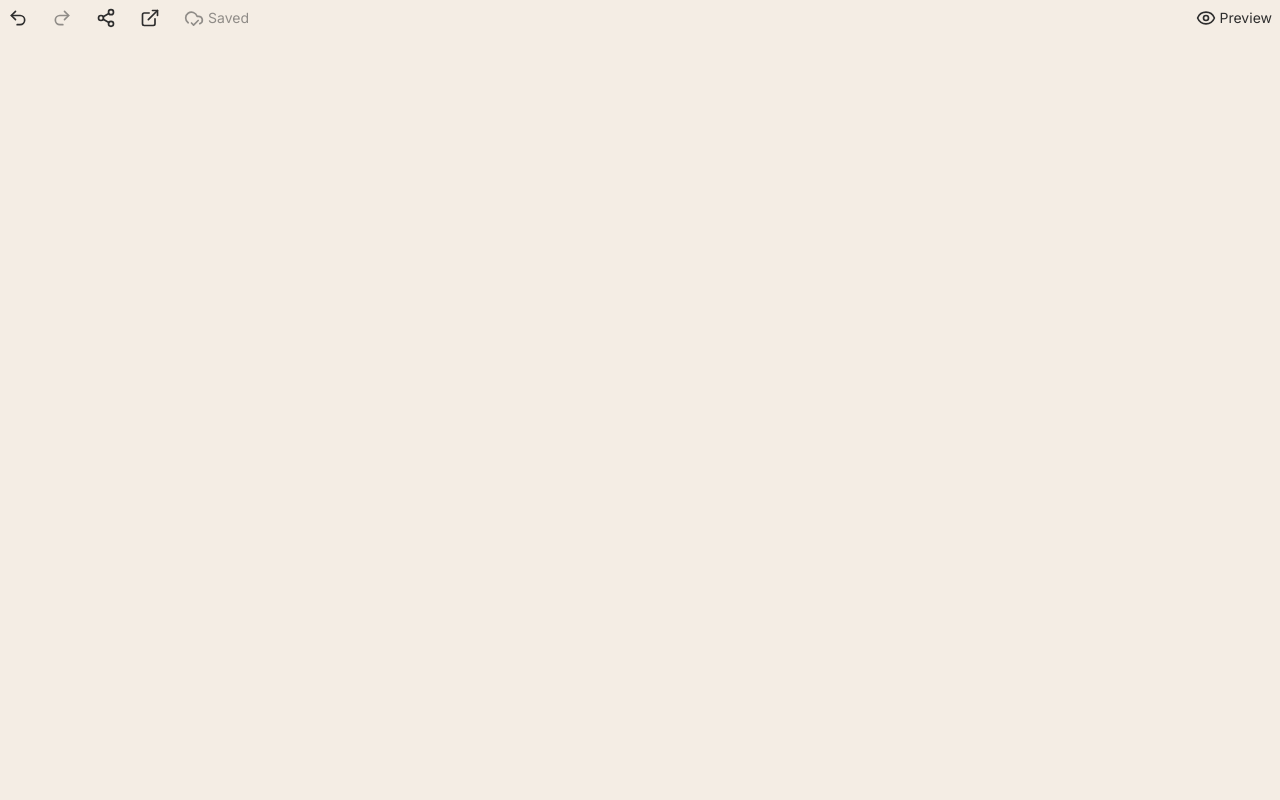
Test: MixtapeEditorToolbar › opens share modal when share button is clicked
Click the button with test id "share-button" at {"x": 106, "y": 18}, box [88,0,124,36]
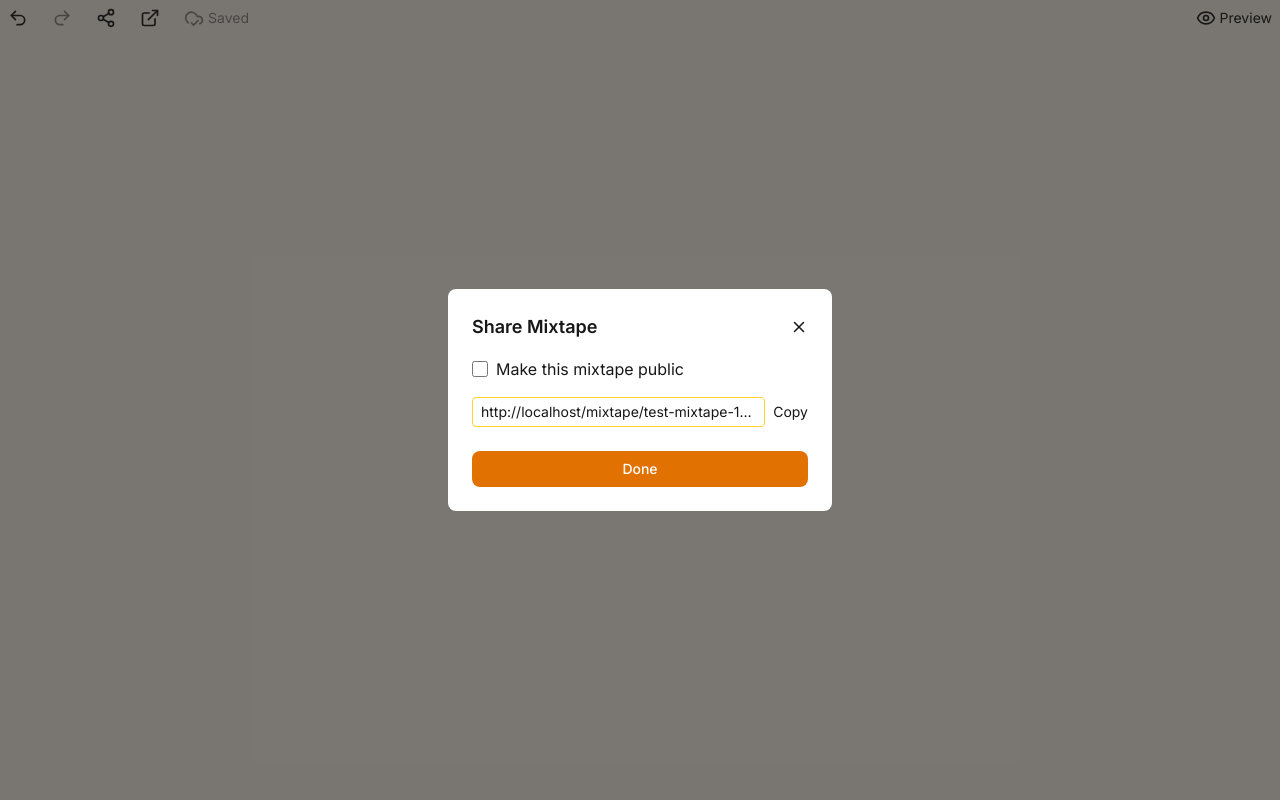
Result: the heading "Share Mixtape" is shown at [472,313,598,341]
